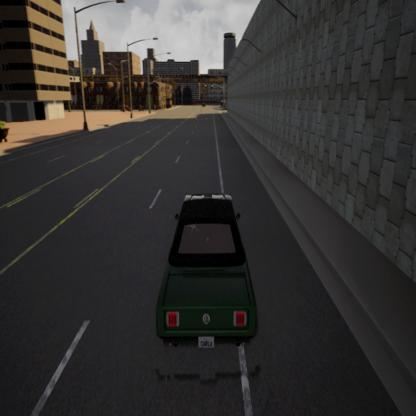Cars: (157, 186, 263, 359)
